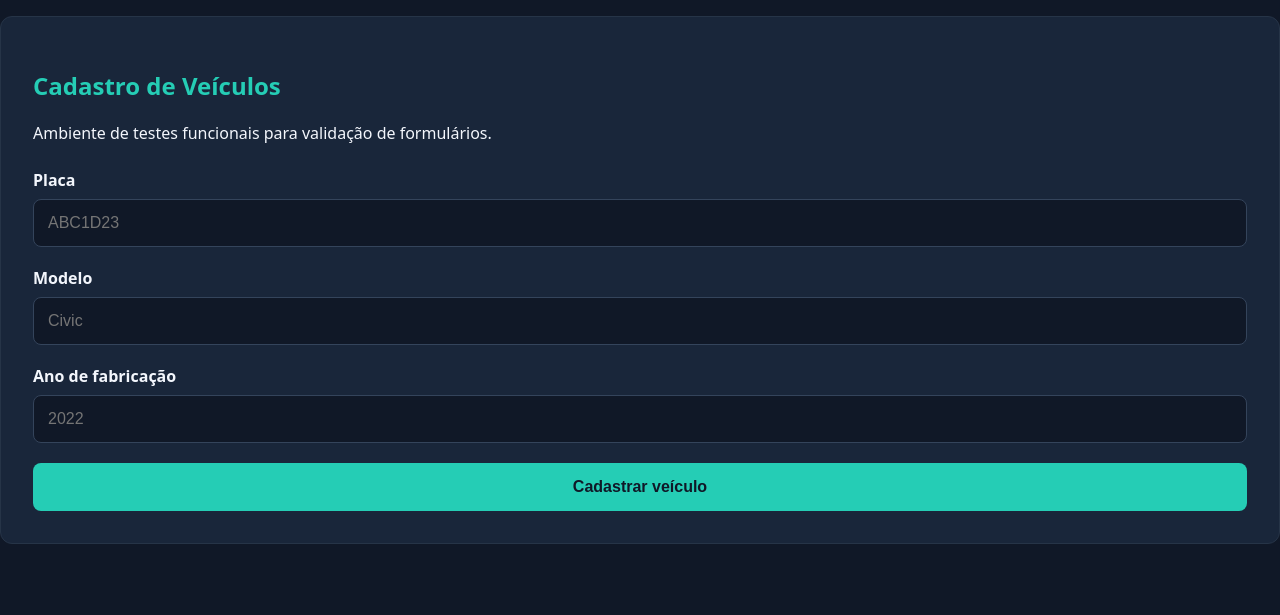
Cadastro de Veículos — Testes de interface › deve informar quando todos os campos estão vazios
The image size is (1280, 615).
Click the button "Cadastrar veículo" at point(640, 487), box top-left (33, 463), bottom-right (1247, 511)
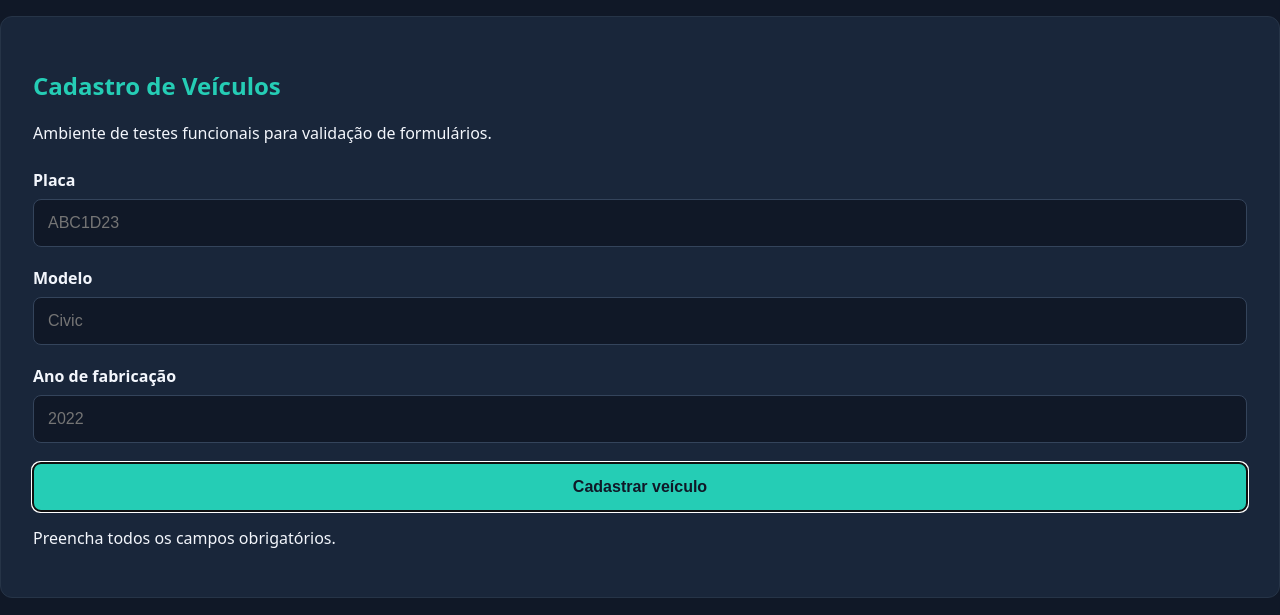
Now the message reads "Preencha todos os campos obrigatórios.", box top-left (33, 527), bottom-right (336, 549)
